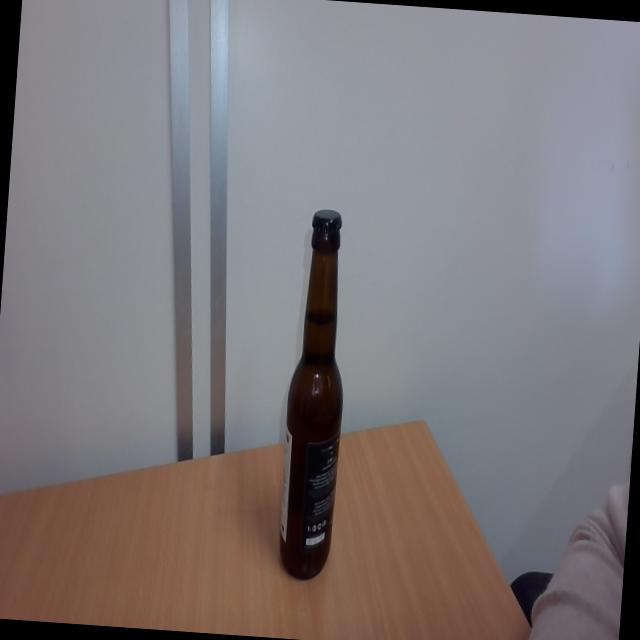Bottle: (274, 236, 354, 582)
Cap: (310, 205, 344, 239)
Label: (295, 434, 340, 552)
